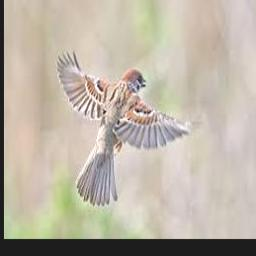Sparrow: (56, 49, 199, 206)
